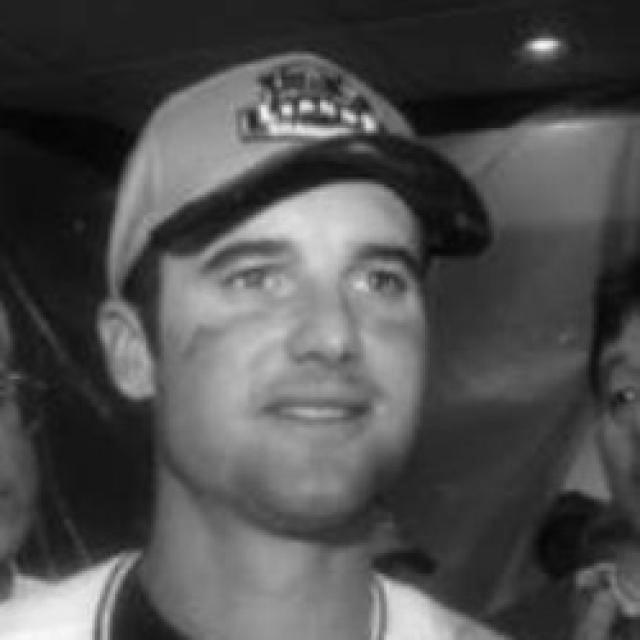real: (158, 176, 432, 524), (212, 247, 420, 315)
